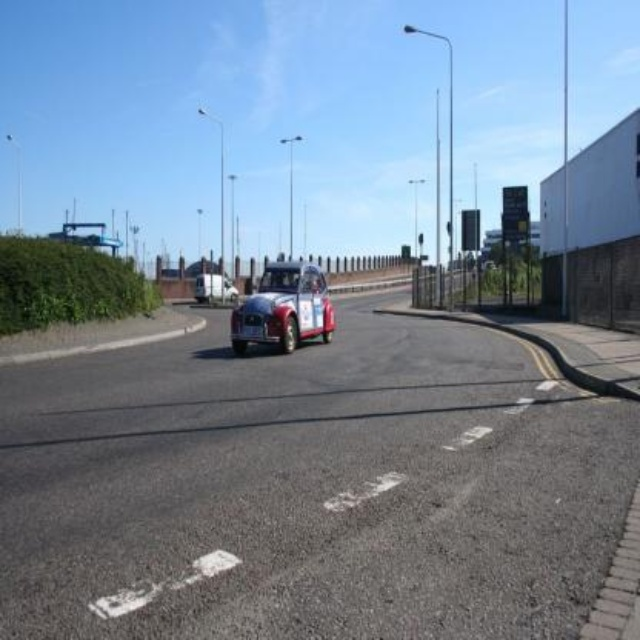Car: (230, 261, 336, 353)
